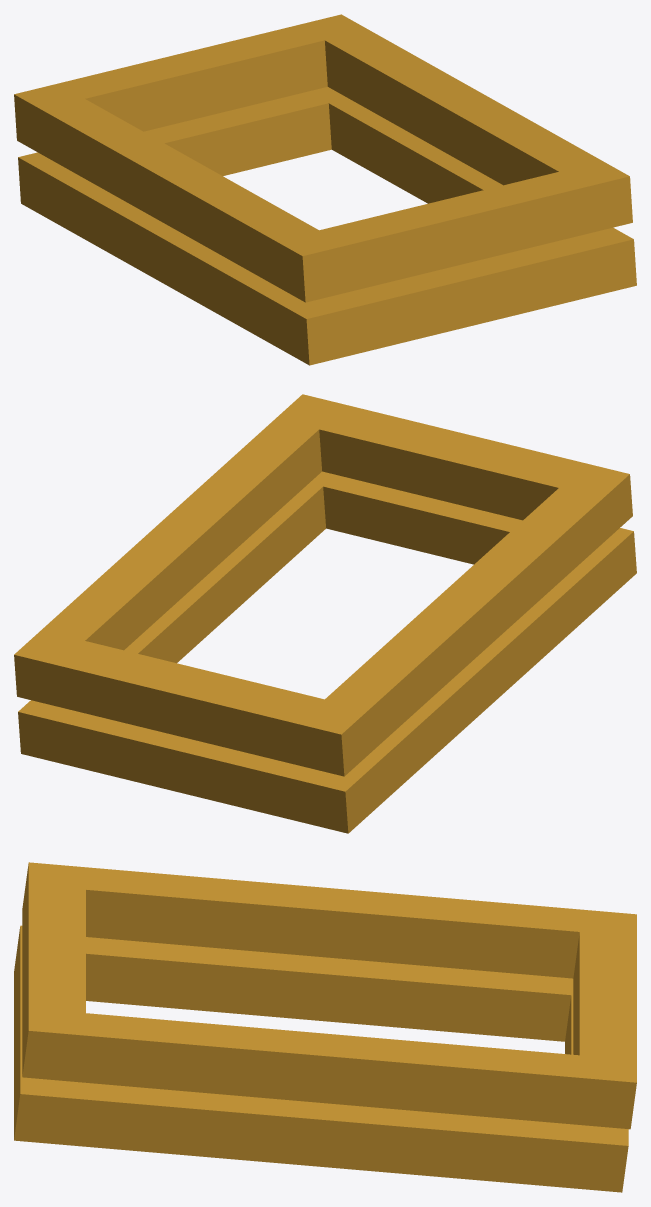
The model's file is Headband 02.FBX.
The picture shows the model from 3 angles, top to bottom: view 1: azimuth 30°, elevation 25°; view 2: azimuth 150°, elevation 25°; view 3: azimuth 270°, elevation 25°; orthographic projection. The views are drawn at different scales.
Visible parts, largest first — view 1: Headband 02; view 2: Headband 02; view 3: Headband 02.
Part boxes in pixels (<box>): Headband 02: <box>14,14,636,365</box>; Headband 02: <box>14,394,636,833</box>; Headband 02: <box>14,862,636,1192</box>.
Size of the model in its own units: 19.55 by 8.76 by 30.56.
